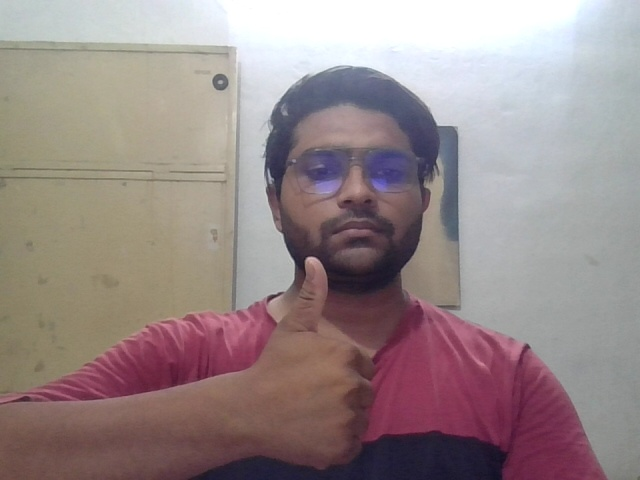ThumbsUp: (266, 252, 390, 478)
